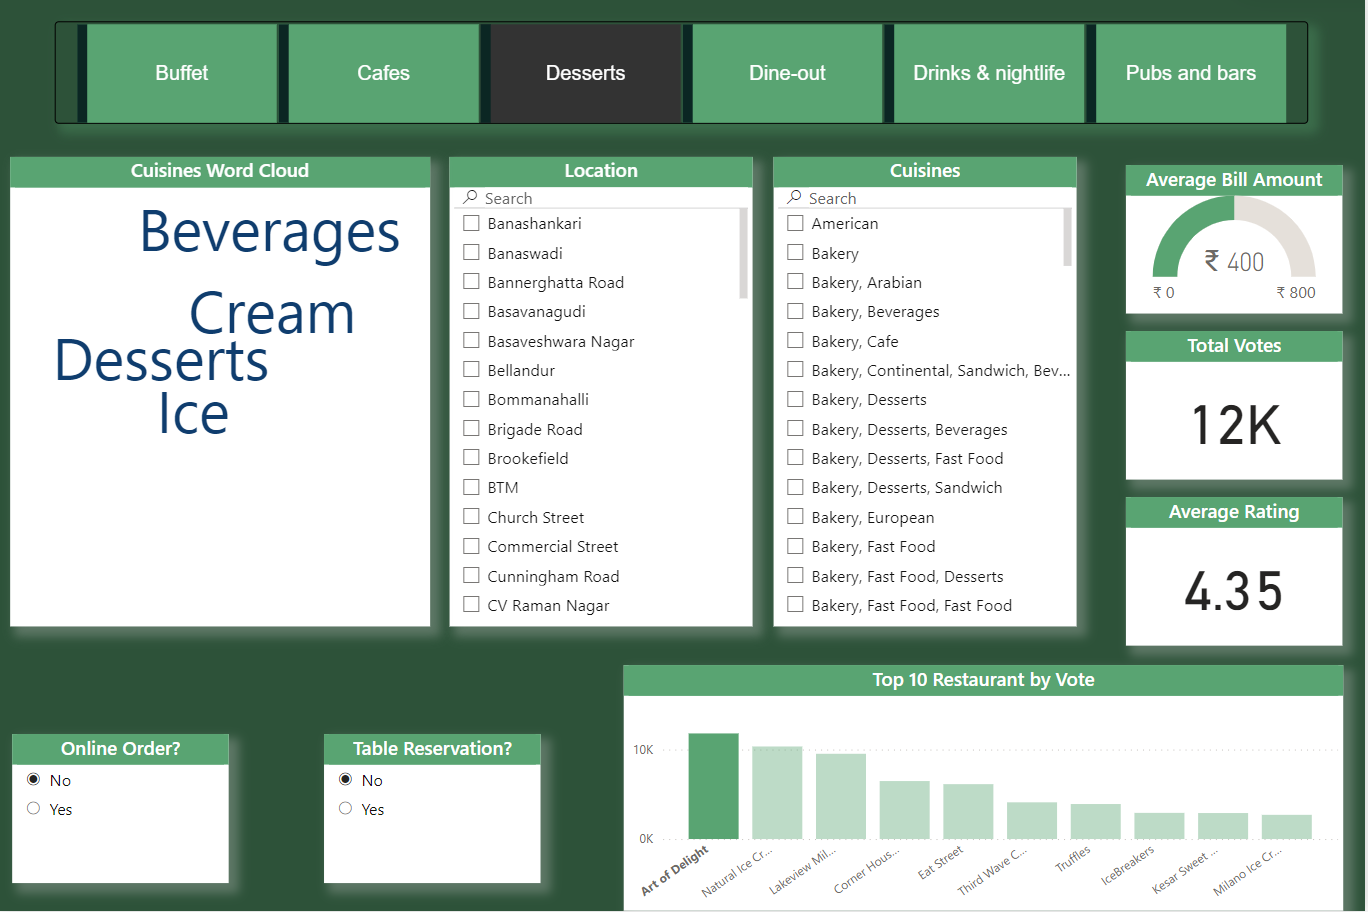

Layout of this report page (visuals, bound fields, positions):
{"tool":"powerbi","page":{"name":"Report","canvas":[1350,900],"ordinal":0},"visuals":[{"type":"gauge","title":"Average Bill Amount","fields":{"Y":["Avg(zomato.approx_cost(for two people))"]},"box":[1113.3,163.7,213.9,146.7],"z":2000},{"type":"card","title":"Total Votes","fields":{"Values":["Sum(zomato.votes)"]},"box":[1113.9,328.7,213.9,146.7],"z":3000},{"type":"card","title":"Average Rating","fields":{"Values":["Avg(zomato.rate)"]},"box":[1114.6,491.2,213.9,146.7],"z":4000},{"type":"columnChart","title":"Top 10 Restaurant by Vote","fields":{"Category":["zomato.name"],"Y":["Sum(zomato.votes)"]},"box":[617.2,657.3,710.8,242.7],"z":5000},{"type":"slicer","title":"Table Reservation?","fields":{"Values":["zomato.book_table"]},"box":[321,726.1,214,147],"z":6000},{"type":"slicer","title":"Online Order?","fields":{"Values":["zomato.online_order"]},"box":[13.4,726.1,214,147.1],"z":7000},{"type":"slicer","title":"Cuisines","fields":{"Values":["zomato.cuisines"]},"box":[765.3,156.1,299.3,463.9],"z":8000},{"type":"slicer","title":"Location","fields":{"Values":["zomato.location"]},"box":[446.8,156.1,299.3,463.9],"z":9000},{"type":"WordCloud1447959067750","title":"Cuisines Word Cloud","fields":{"Category":["zomato.cuisines"]},"box":[12.8,156.1,414.7,463.9],"z":10000},{"type":"slicer","title":"Restaurant Type","fields":{"Values":["zomato.listed_in(type)"]},"box":[55.9,21,1238.2,101.3],"z":10500}]}

Visuals, with their boxes in screenshot pixels (x1, y1, x2, y2), scaled from the page's 1350x900 canvas onto the 1368x912 screenshot:
"Average Bill Amount" gauge: [x1=1128, y1=166, x2=1345, y2=315]
"Total Votes" card: [x1=1129, y1=333, x2=1346, y2=482]
"Average Rating" card: [x1=1129, y1=498, x2=1346, y2=646]
"Top 10 Restaurant by Vote" columnChart: [x1=625, y1=666, x2=1346, y2=911]
"Table Reservation?" slicer: [x1=325, y1=736, x2=542, y2=885]
"Online Order?" slicer: [x1=14, y1=736, x2=230, y2=885]
"Cuisines" slicer: [x1=776, y1=158, x2=1079, y2=628]
"Location" slicer: [x1=453, y1=158, x2=756, y2=628]
"Cuisines Word Cloud" WordCloud1447959067750: [x1=13, y1=158, x2=433, y2=628]
"Restaurant Type" slicer: [x1=57, y1=21, x2=1311, y2=124]
